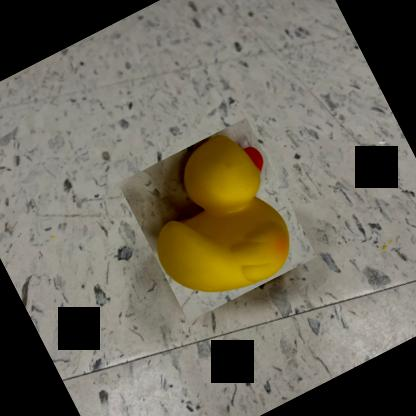duck: (118, 117, 317, 321)
